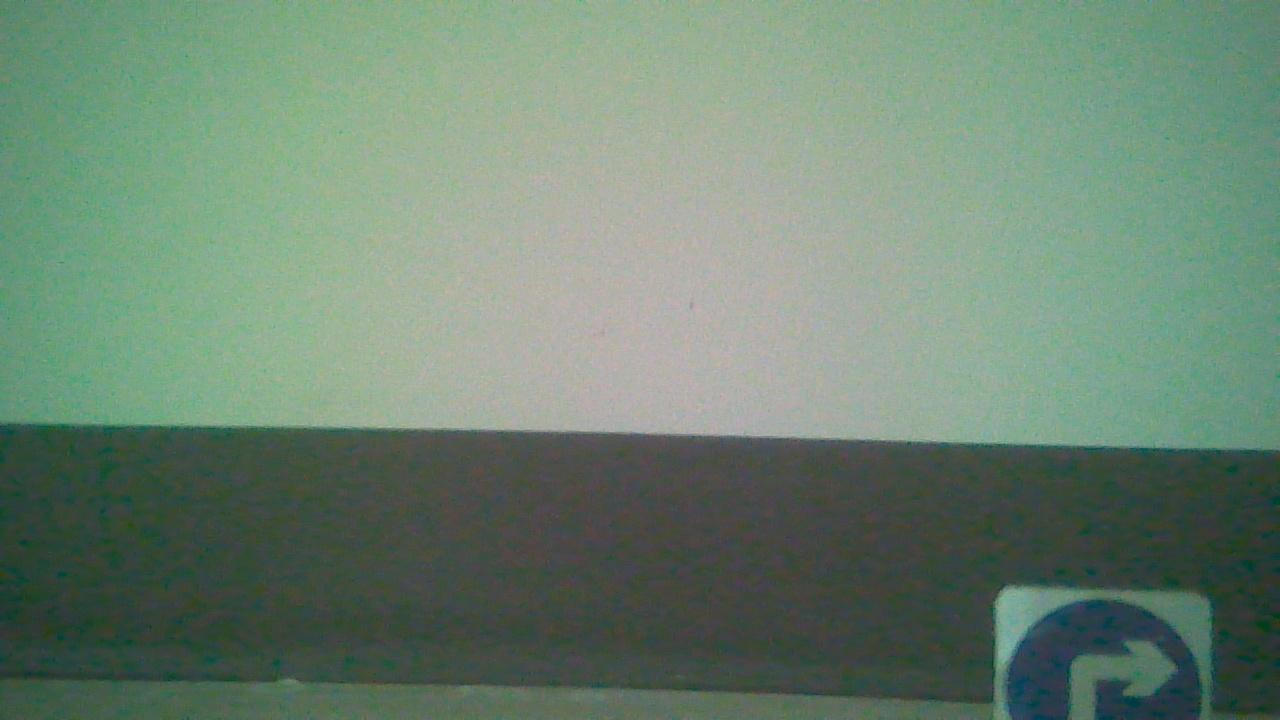turn: (998, 588, 1211, 720)
